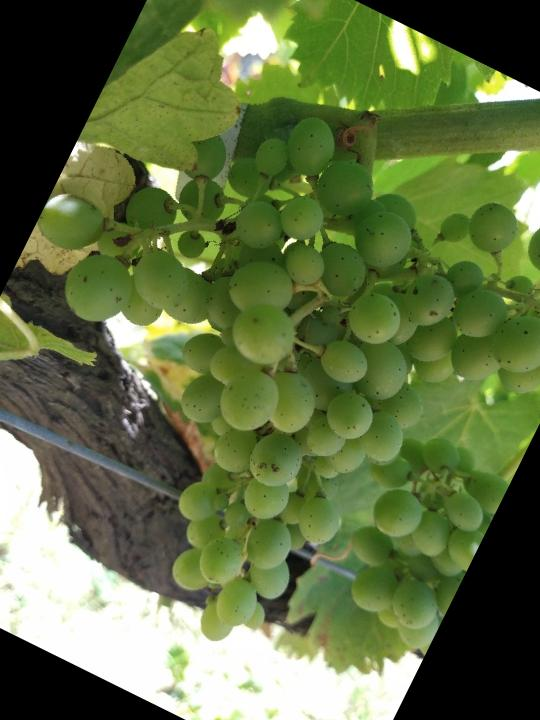grape: (0, 16, 540, 720)
